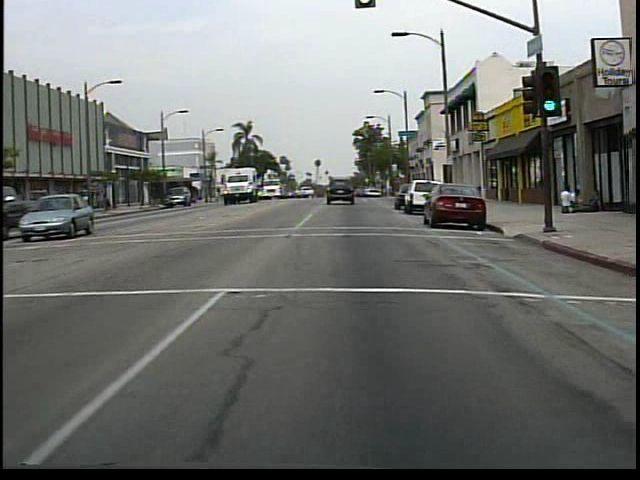person: (96, 188, 119, 218), (556, 185, 573, 215)
